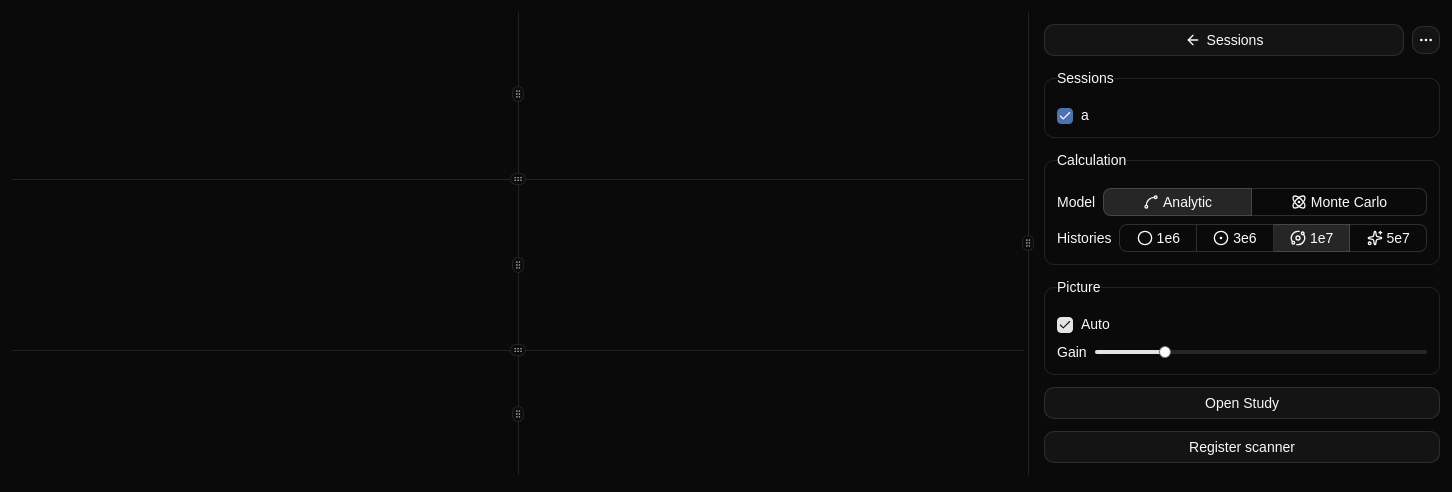
Scenario: changes color gain without rebuilding the dose
Click the checkbox with id "analysis-auto" at (1095,324), box 1081,316 -> 1110,332
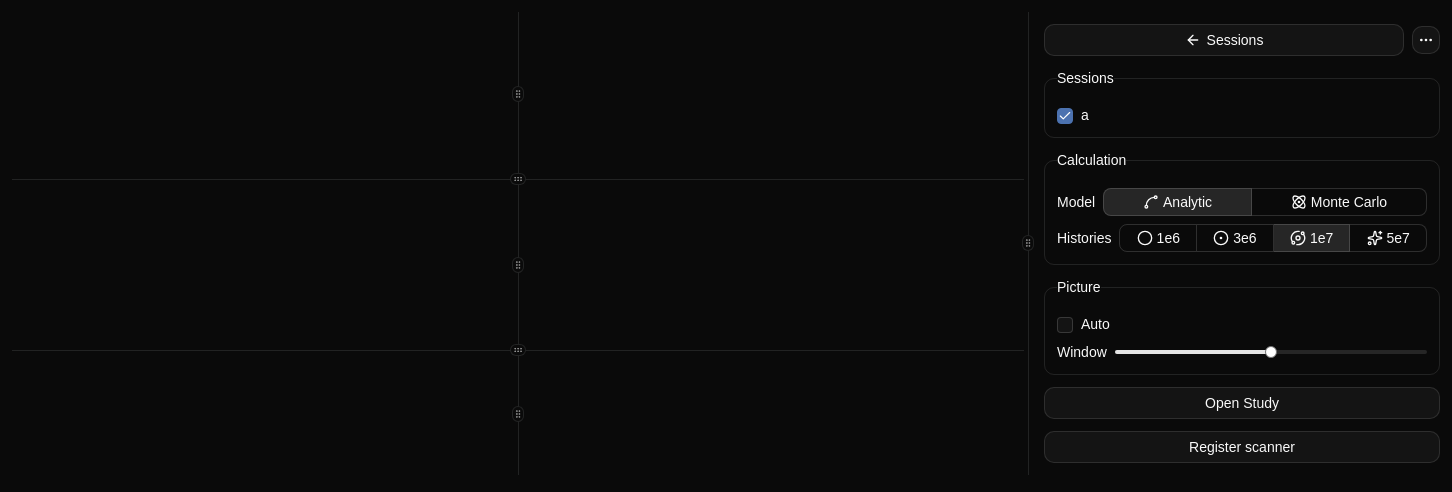
expect the text "Window" is shown: met, box 1057,342 -> 1107,362
